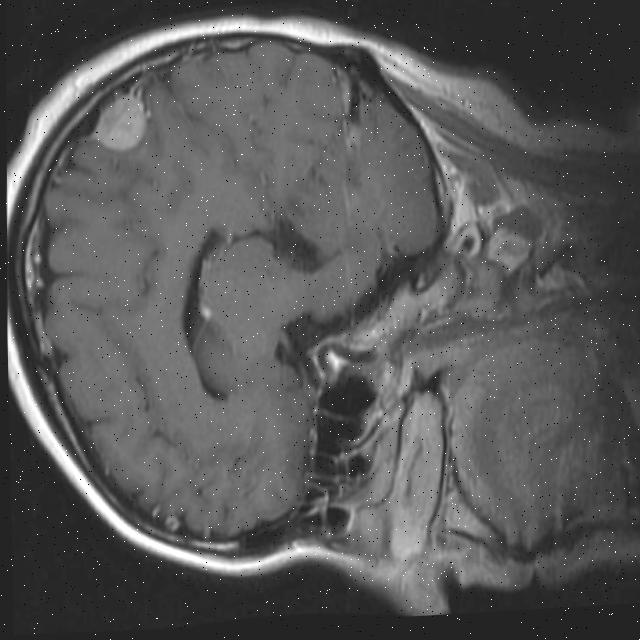Meningioma: (87, 90, 149, 155)
